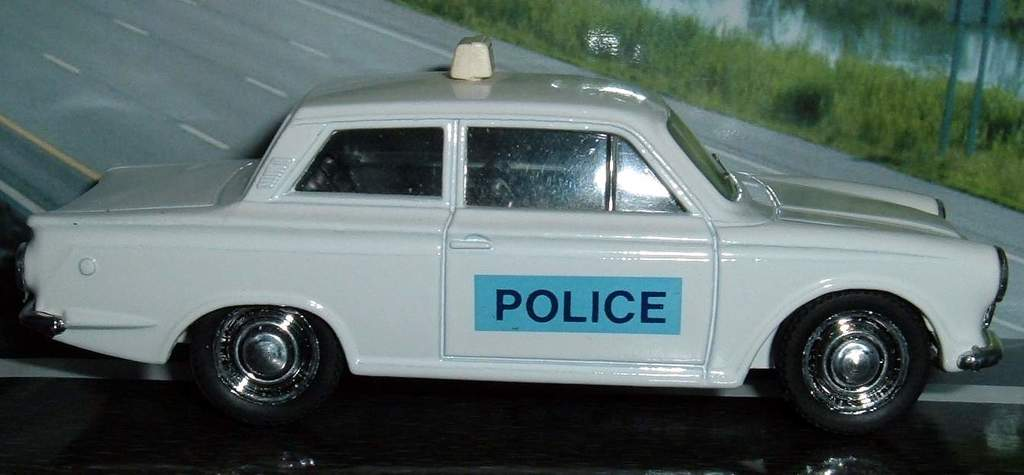Car: (10, 35, 1007, 421)
